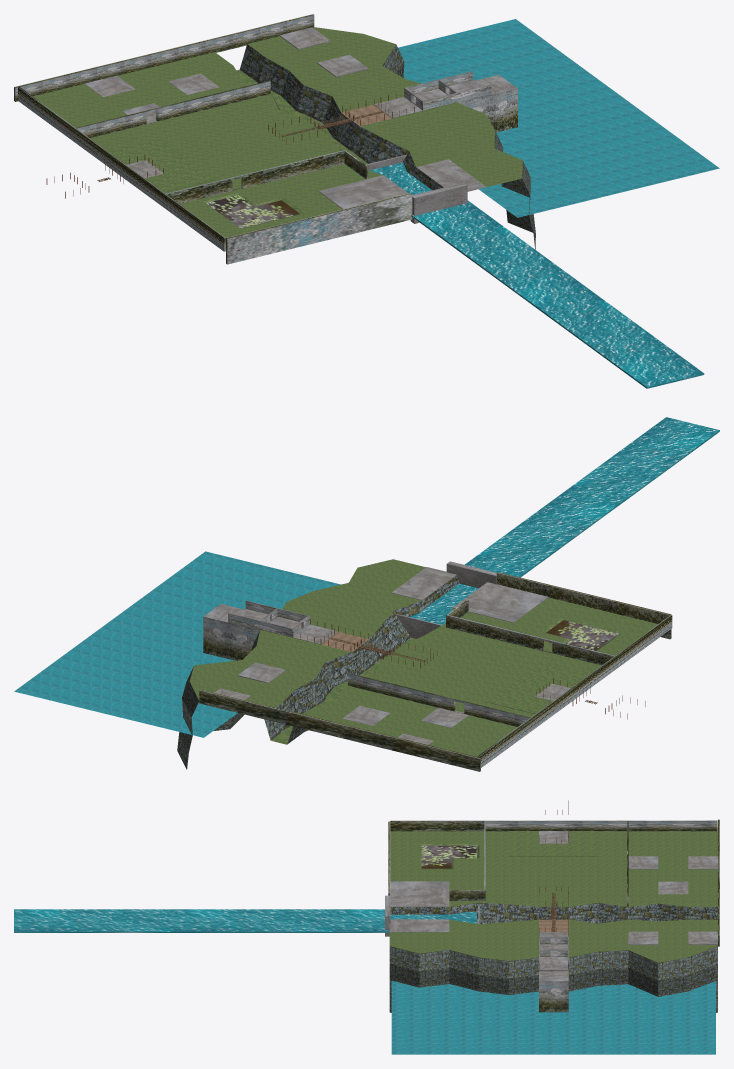
Rendered from World.fbx.
3 views of the same model, one above another, from view 1: azimuth 30°, elevation 25°; view 2: azimuth 150°, elevation 25°; view 3: azimuth 270°, elevation 25° (orthographic). The views are drawn at different scales.
Visible parts, largest first — view 1: World, Sea, Cube.002, Cube.005, Cube.006, LevelA, WallBack, Wall.001, Wall, Cube.003, Cube.001; view 2: World, Sea, Cube.002, Cube.006, LevelA, WallBack, Cube.005, Wall.001, Wall, Cube.003, Cube.001, Cube; view 3: World, Sea, Cube.002, WallBack, LevelA, Cube.003, Wall.001.
Boxes of the visible parts, x1,y1,x2,y2 form: World: [33, 27, 535, 250]; Sea: [398, 19, 719, 217]; Cube.002: [370, 162, 704, 388]; Cube.005: [226, 193, 412, 264]; Cube.006: [14, 14, 314, 101]; LevelA: [404, 71, 517, 132]; WallBack: [18, 87, 225, 251]; Wall.001: [166, 150, 367, 203]; Wall: [76, 80, 270, 137]; Cube.003: [206, 195, 299, 228]; Cube.001: [410, 182, 467, 223]; World: [177, 559, 657, 769]; Sea: [14, 551, 340, 737]; Cube.002: [409, 417, 719, 624]; Cube.006: [199, 689, 480, 771]; LevelA: [203, 600, 309, 660]; WallBack: [477, 615, 672, 767]; Cube.005: [496, 572, 671, 639]; Wall.001: [446, 599, 614, 665]; Wall: [348, 673, 530, 726]; Cube.003: [546, 620, 618, 650]; Cube.001: [446, 561, 496, 588]; Cube: [395, 614, 441, 638]; World: [389, 831, 717, 1012]; Sea: [391, 981, 715, 1054]; Cube.002: [14, 909, 476, 932]; WallBack: [390, 820, 717, 831]; LevelA: [539, 936, 568, 1012]; Cube.003: [421, 845, 477, 868]; Wall.001: [449, 821, 485, 900].
Bounding box in the file's own units: 71861 × 11004 × 98462.
